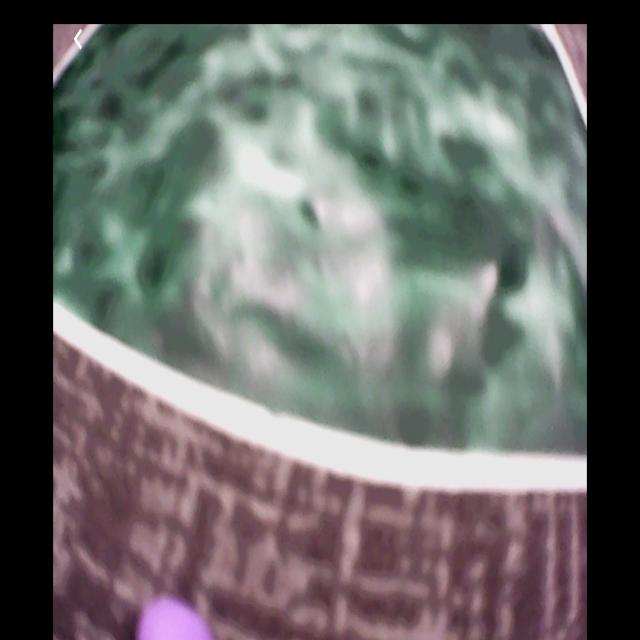ball: (137, 594, 213, 640)
